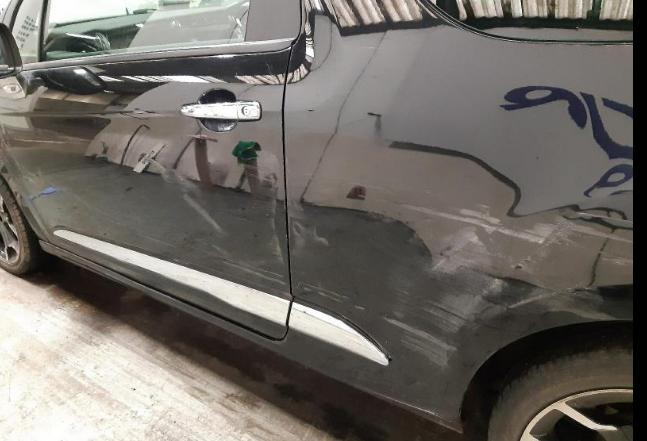Back-wheel: (488, 331, 634, 440)
Back-window: (419, 0, 631, 43)
Front-door: (0, 0, 301, 341)
Front-wheel: (1, 172, 45, 278)
Front-window: (11, 3, 250, 63)
Mirror: (0, 22, 23, 78)
Quarter-panel: (283, 0, 635, 398)
Rocker-panel: (37, 236, 464, 433)
